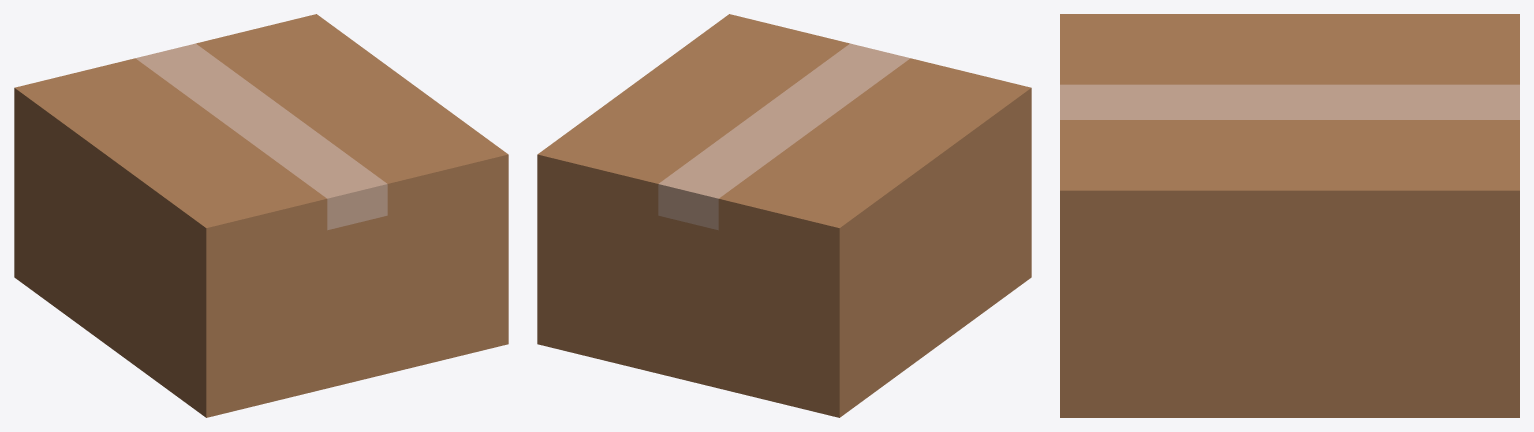
Rendered from KidsRoomStorage-11.obj.
The picture shows the model from 3 angles, left to right: view 1: azimuth 30°, elevation 25°; view 2: azimuth 150°, elevation 25°; view 3: azimuth 270°, elevation 25°; orthographic projection. The views are drawn at different scales.
Size of the model in its own units: 1 by 0.6 by 1.1.
Materials: 1 (1 with a texture image).
